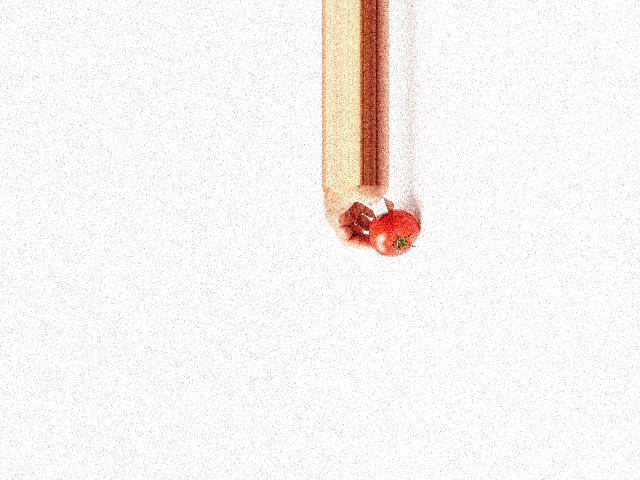tomato: (368, 209, 418, 256)
